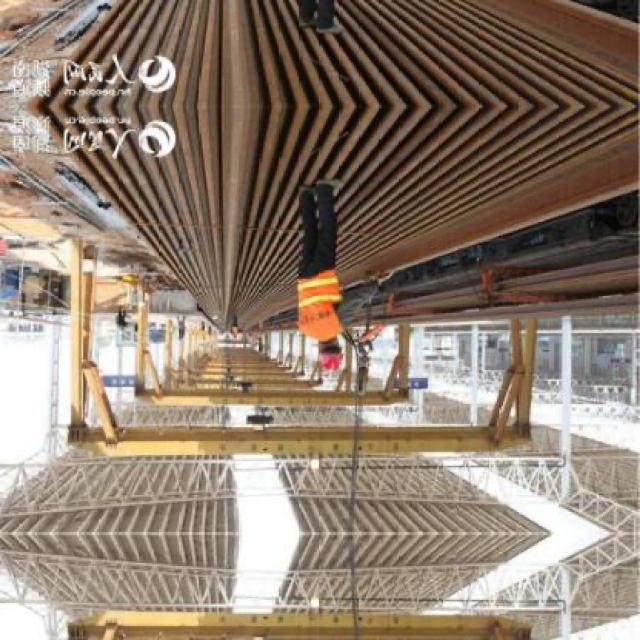con casco: (282, 304, 389, 389)
